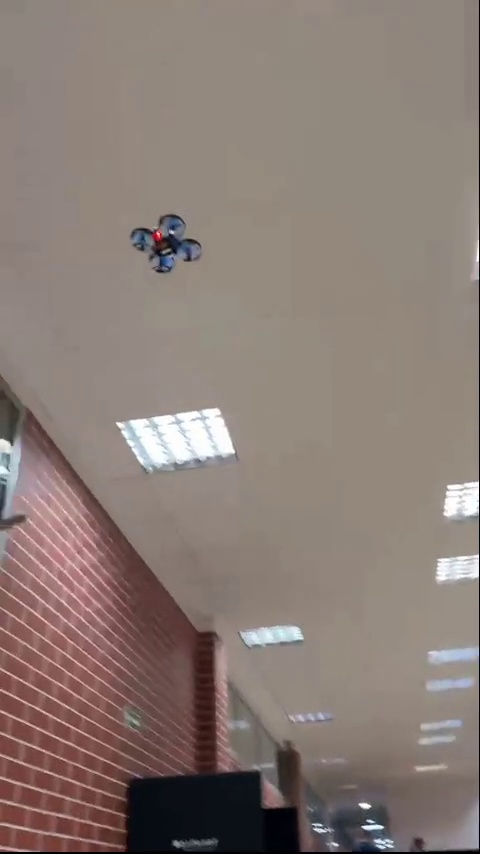drone: (123, 214, 206, 270)
